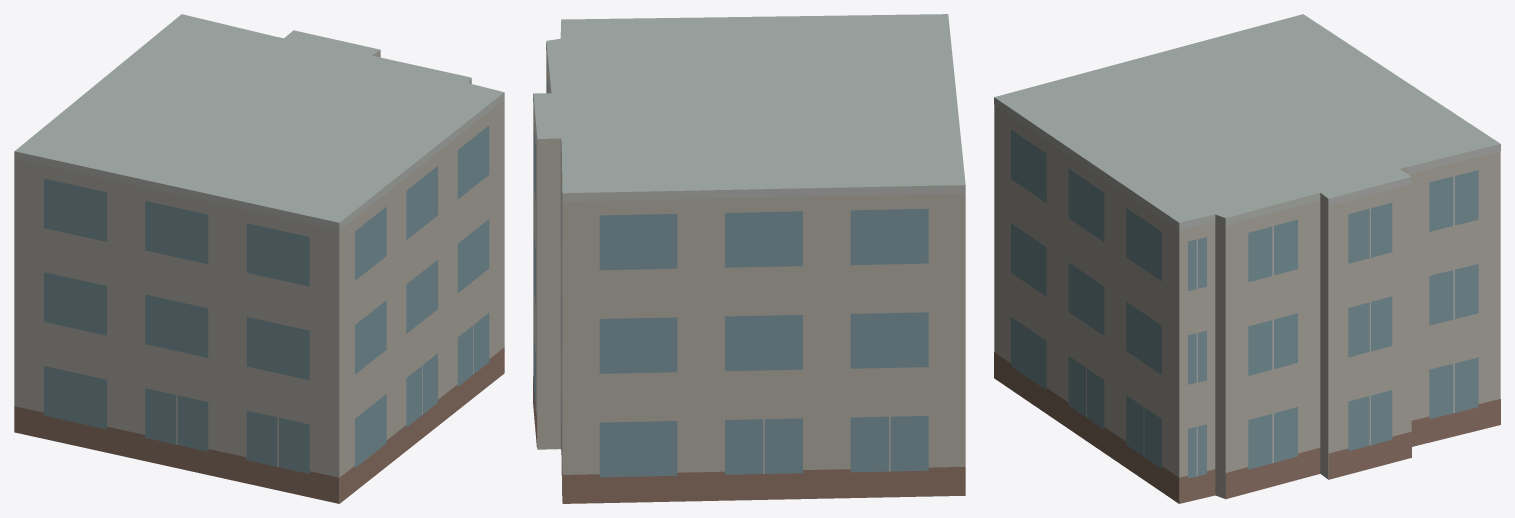
Rendered from survey-upis-33012073.glb.
3 renders of one model, left to right at view 1: azimuth 30°, elevation 25°; view 2: azimuth 150°, elevation 25°; view 3: azimuth 270°, elevation 25°, orthographic. The views are drawn at different scales.
Parts seen in each view (by area): view 1: survey-upis-33012073.tmp; view 2: survey-upis-33012073.tmp; view 3: survey-upis-33012073.tmp.
Part boxes in pixels (x1=…): survey-upis-33012073.tmp: x1=14, y1=14, x2=504, y2=503; survey-upis-33012073.tmp: x1=533, y1=14, x2=965, y2=503; survey-upis-33012073.tmp: x1=994, y1=14, x2=1500, y2=503.
Size of the model in its own units: 14.59 by 9.15 by 14.96.
